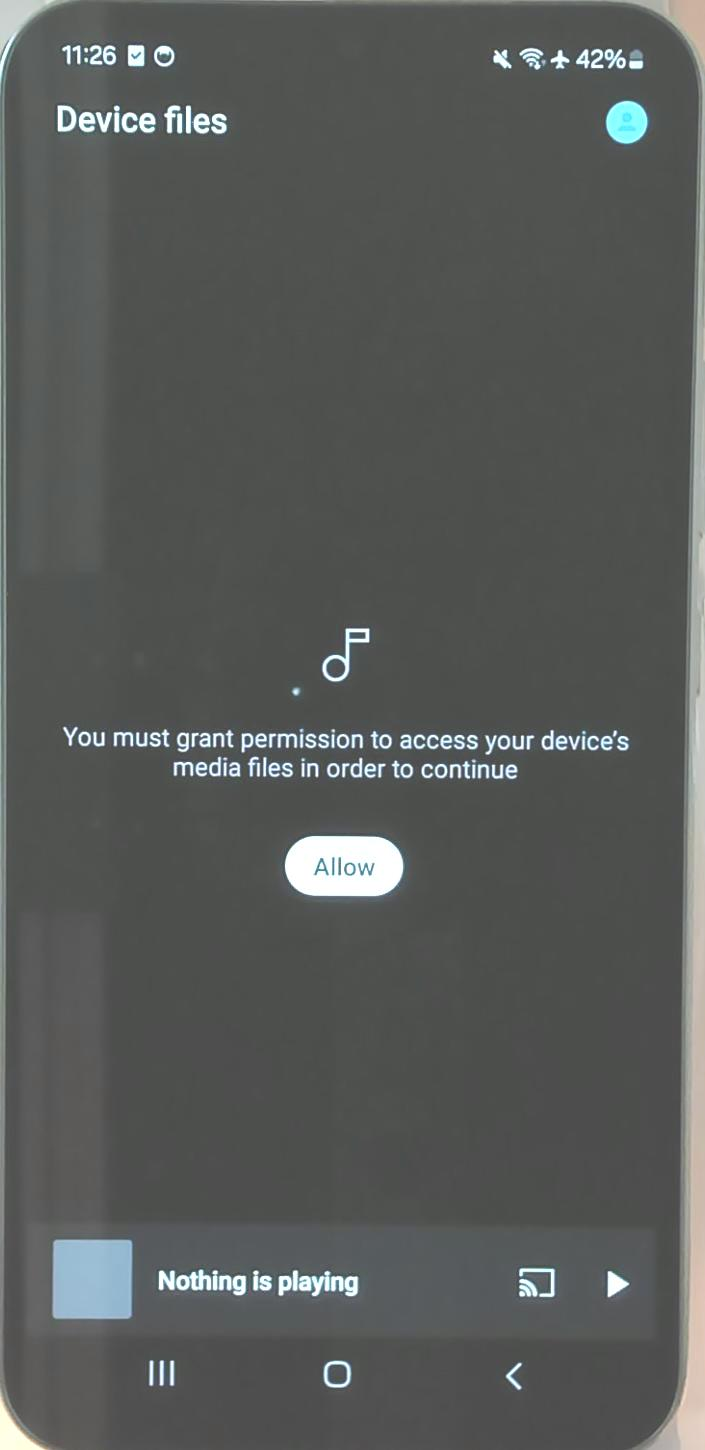CommunBotton: (278, 832, 418, 910), (574, 94, 662, 164), (502, 1240, 560, 1318), (310, 1350, 370, 1406), (136, 1348, 186, 1406), (588, 1254, 636, 1314), (490, 1338, 532, 1402)
